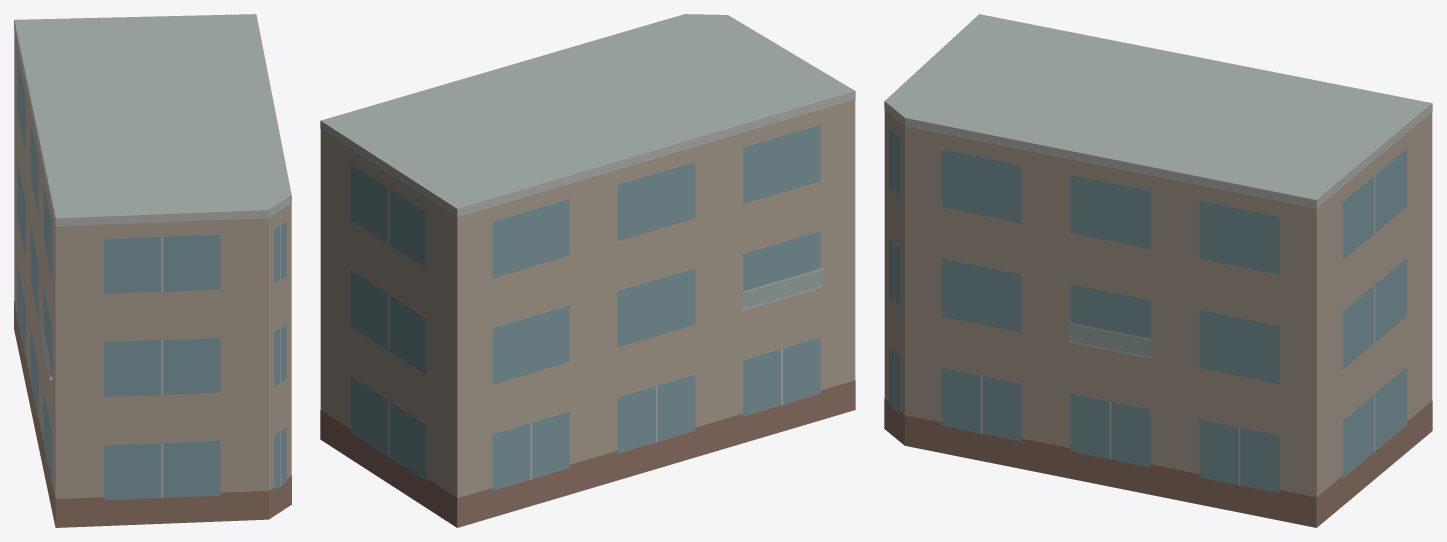
File: survey-upis-33022364.glb
The picture shows the model from 3 angles, left to right: view 1: azimuth 30°, elevation 25°; view 2: azimuth 150°, elevation 25°; view 3: azimuth 270°, elevation 25°; orthographic projection. The views are drawn at different scales.
Parts seen in each view (by area): view 1: survey-upis-33022364.tmp; view 2: survey-upis-33022364.tmp; view 3: survey-upis-33022364.tmp.
Part boxes in pixels (left/top/right/bottom): survey-upis-33022364.tmp: left=14, top=14, right=291, bottom=527; survey-upis-33022364.tmp: left=320, top=14, right=855, bottom=527; survey-upis-33022364.tmp: left=884, top=14, right=1432, bottom=527.
Bounding box in the file's own units: 11.27 × 9.25 × 14.02.
